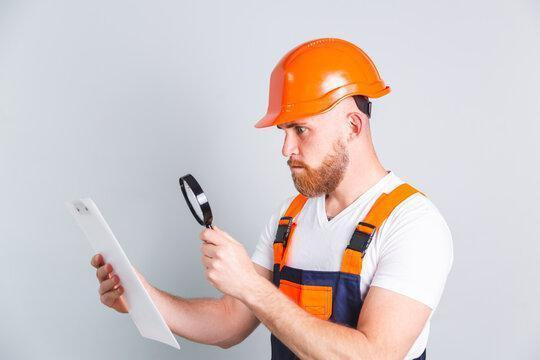helmet: (254, 37, 391, 127)
